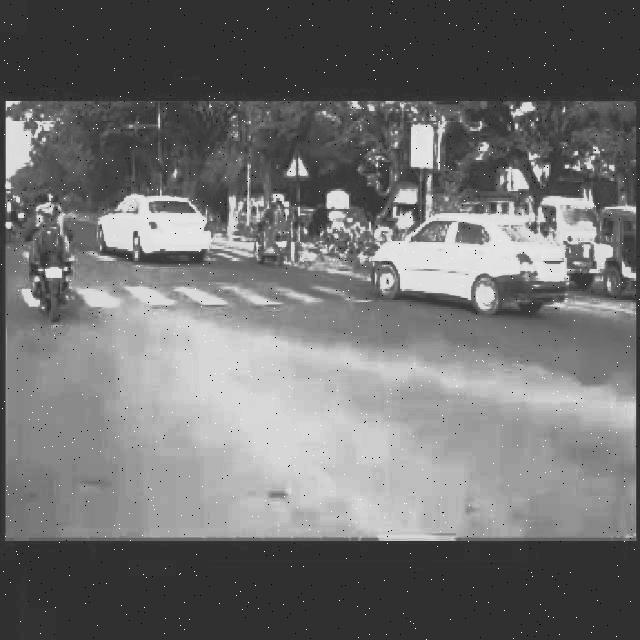Bike: (27, 182, 80, 313), (255, 188, 295, 264)
Car: (369, 204, 569, 338), (89, 176, 217, 278)
